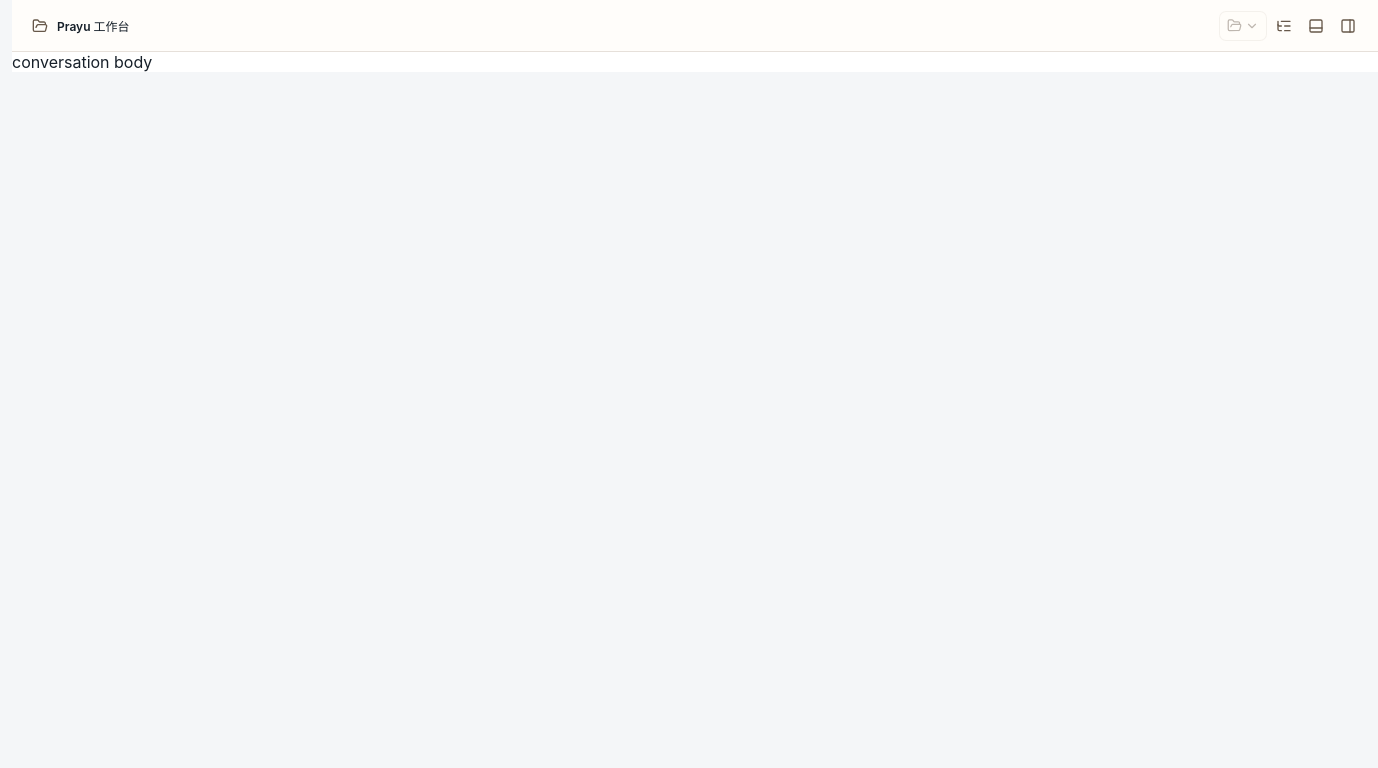
Test case: WorkbenchDock › keeps summary, bottom panel, and sidecar independently controllable
Check: the text "conversation body" is shown, box [12,52,152,72]
Click the button named "切换摘要".
click(1284, 26)  # box [1269,10,1299,40]
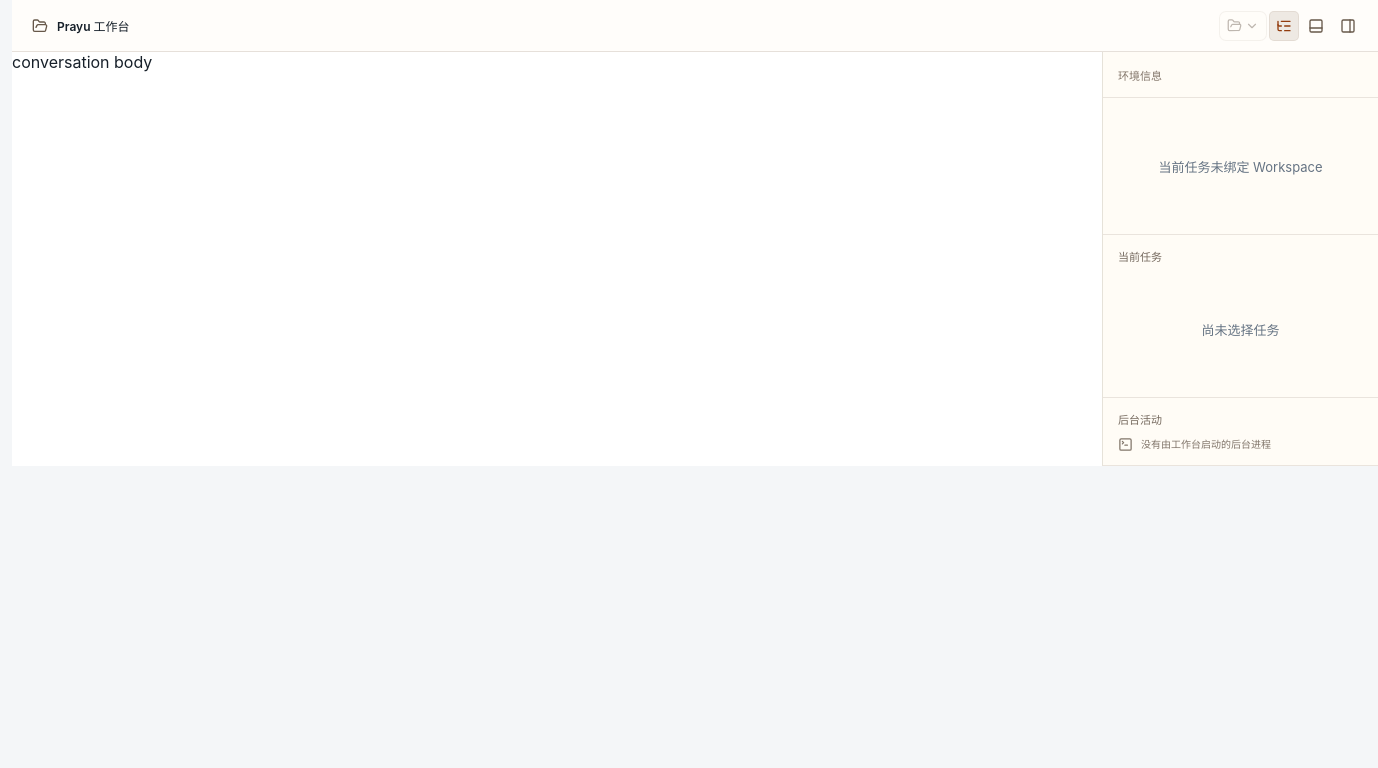
Check: the element named "摘要" is shown, box [1102,52,1377,466]
Click the button named "切换底部面板显示".
click(1316, 26)  # box [1301,10,1331,40]
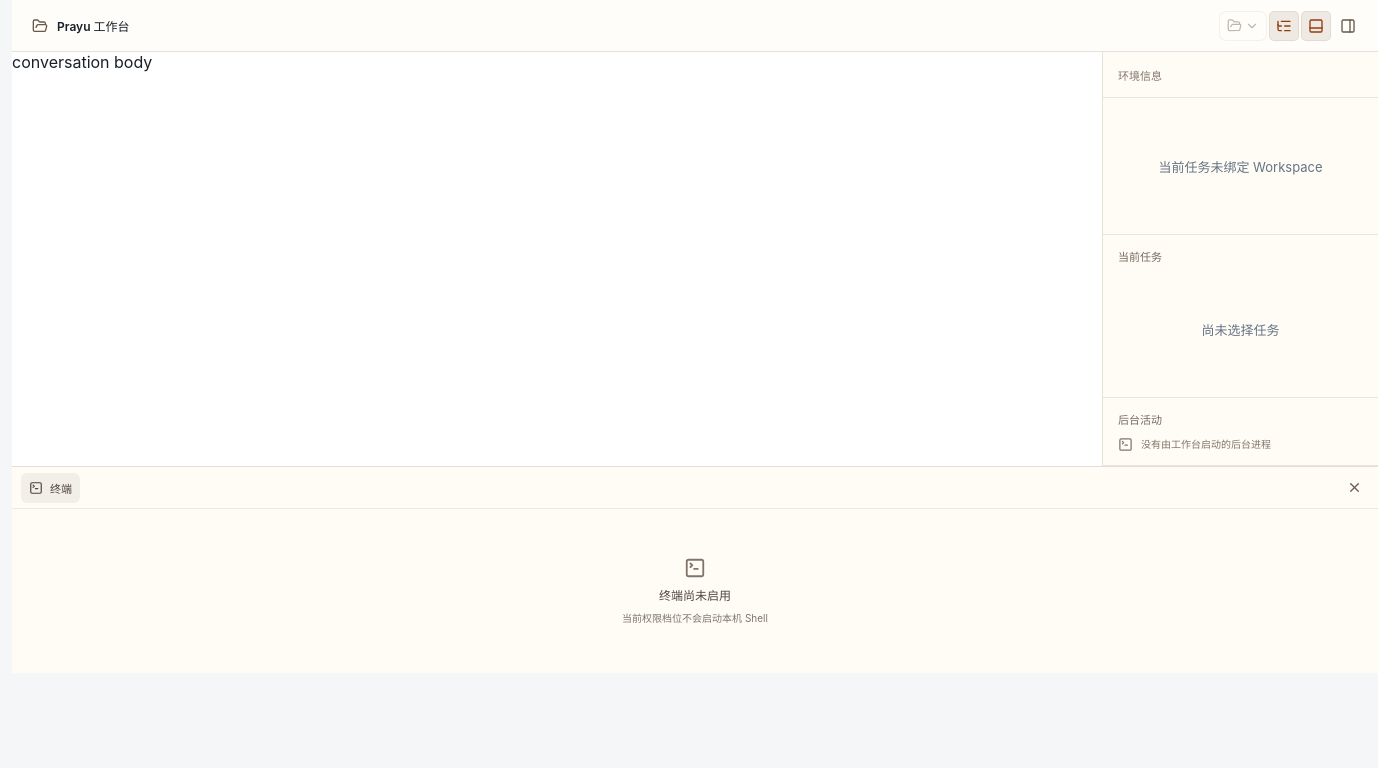
Check: the element named "底部面板" is shown, box [12,466,1377,673]
Check: the text "终端尚未启用" is shown, box [659,586,731,603]
Click the button named "显示或隐藏右侧栏".
click(1348, 26)  # box [1333,10,1363,40]
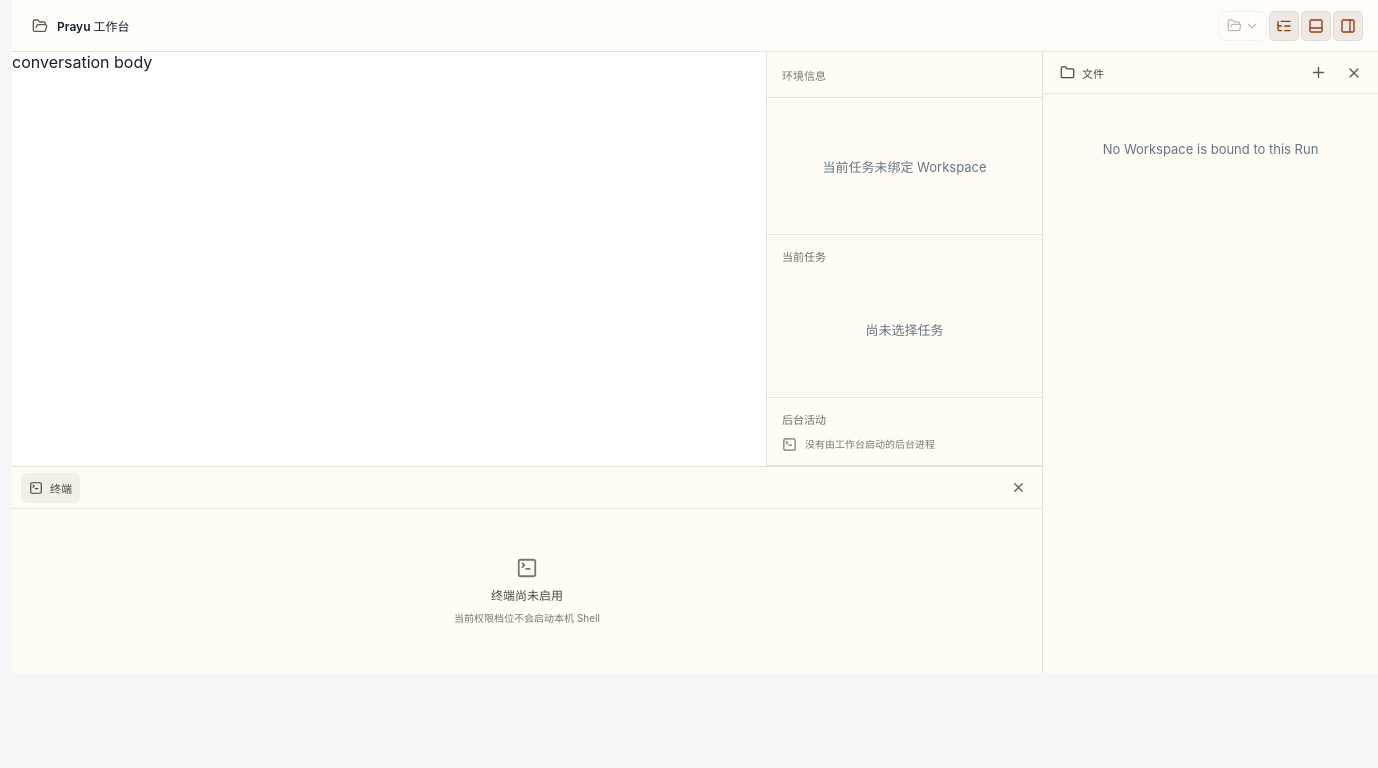
Check: the text "当前任务未绑定 Workspace" is shown, box [822,158,987,174]
Check: the element named "右侧工具栏" is shown, box [1042,52,1377,673]
Click the button named "关闭右侧栏".
click(1354, 72)  # box [1339,58,1369,88]
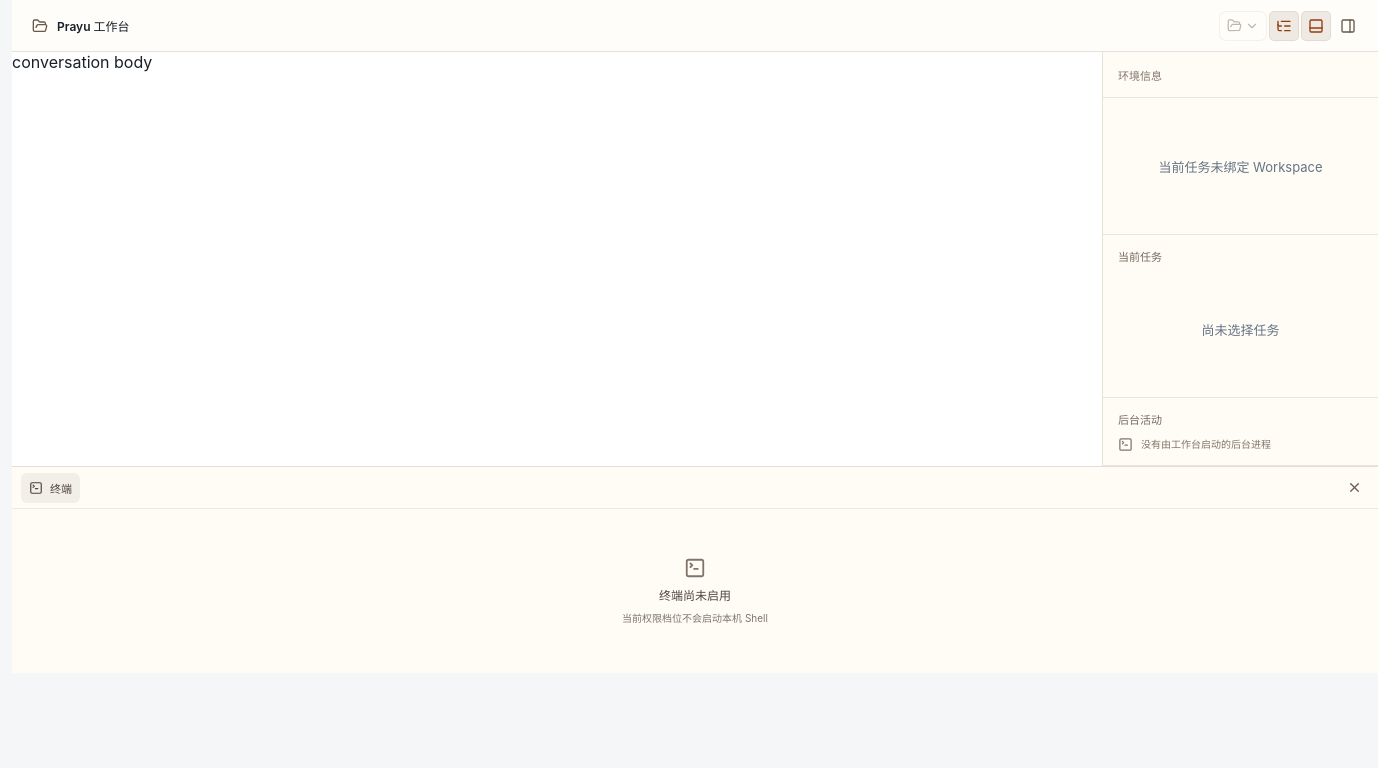
Check: the element named "摘要" is shown, box [1102,52,1377,466]
Check: the element named "底部面板" is shown, box [12,466,1377,673]
Check: the element "右侧工具栏" is gone
